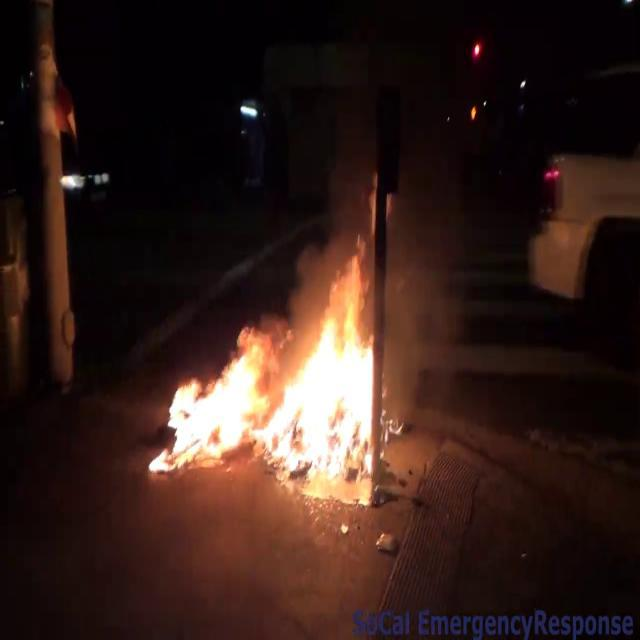Fire: (148, 296, 382, 484)
